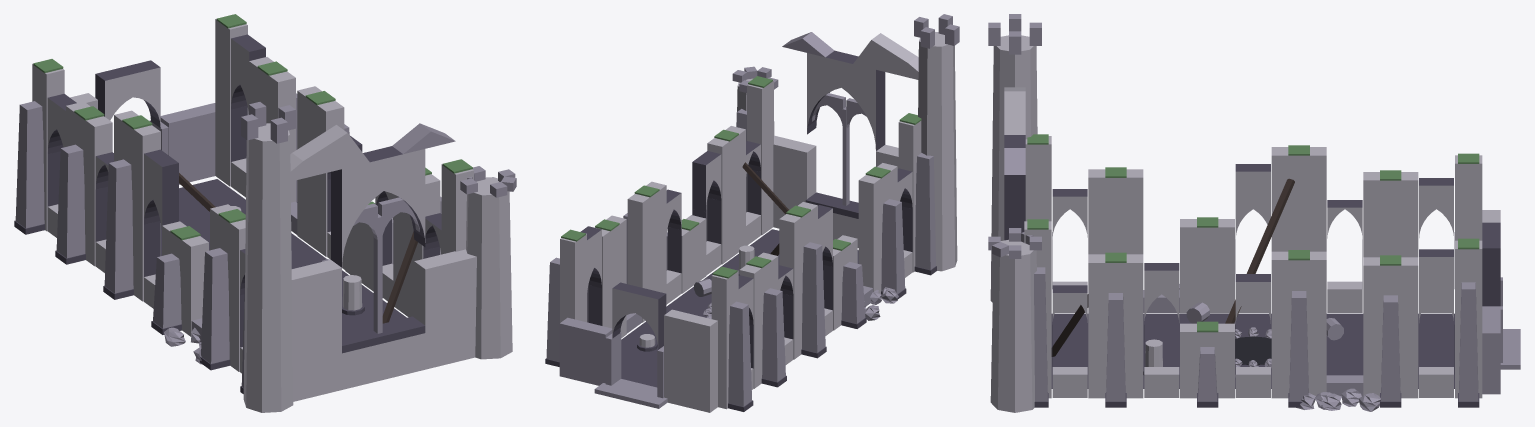
The model's file is fallen-hall.glb.
The picture shows the model from 3 angles, left to right: view 1: azimuth 30°, elevation 25°; view 2: azimuth 150°, elevation 25°; view 3: azimuth 270°, elevation 25°; orthographic projection. The views are drawn at different scales.
Visible parts, largest first — view 1: fallen-hall; view 2: fallen-hall; view 3: fallen-hall.
Part boxes in pixels (box(x1,y1,x2,y2)): fallen-hall: box(14, 14, 516, 412); fallen-hall: box(545, 14, 959, 412); fallen-hall: box(988, 14, 1520, 412).
Size of the model in its own units: 19.3 by 20.02 by 34.85.
